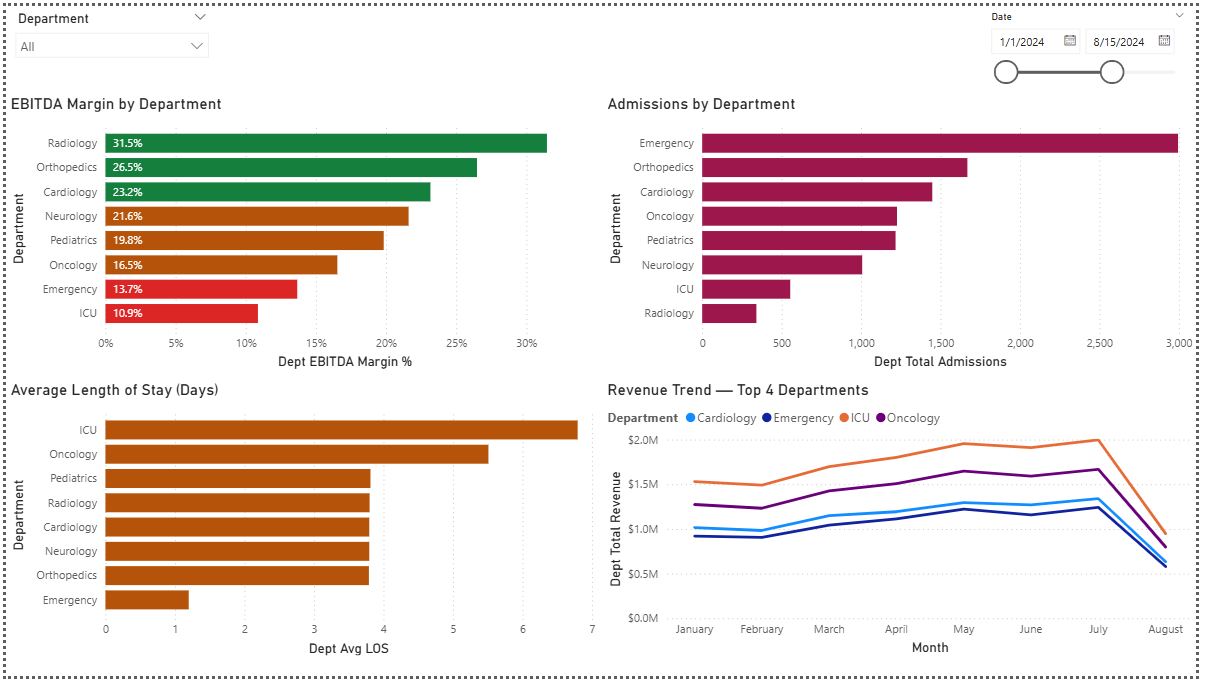

This screenshot's page, from the dashboard's own definition file:
{"tool":"powerbi","page":{"name":"Department Performance","canvas":[1280,720],"ordinal":1},"visuals":[{"type":"slicer","fields":{"Values":["Daily_KPIs.Date"]},"box":[1047.4,0,232.8,95.1],"z":0},{"type":"slicer","fields":{"Values":["Department_Daily.Department"]},"box":[0,0,227.8,95.1],"z":1000},{"type":"clusteredBarChart","title":"EBITDA Margin by Department","fields":{"Category":["Department_Daily.Department"],"Y":["_Measures.Dept EBITDA Margin %"]},"box":[0,94.3,639.3,300.4],"z":2000},{"type":"clusteredBarChart","title":"Admissions by Department","fields":{"Category":["Department_Daily.Department"],"Y":["_Measures.Dept Total Admissions"]},"box":[641.1,94.3,639.3,300.4],"z":3000},{"type":"clusteredBarChart","title":"Average Length of Stay (Days)","fields":{"Category":["Department_Daily.Department"],"Y":["_Measures.Dept Avg LOS"]},"box":[0,404,639,300],"z":4000},{"type":"lineChart","title":"Revenue Trend — Top 4 Departments","fields":{"Category":["Daily_KPIs.Date.Variation.Date Hierarchy.Month"],"Y":["_Measures.Dept Total Revenue"],"Series":["Department_Daily.Department"]},"box":[641,404,639,300],"z":5000}]}

Visuals, with their boxes in screenshot pixels (x1, y1, x2, y2), scaled from the page's 1280x720 canvas onto the 1205x684 screenshot:
slicer - Daily_KPIs.Date: [986,0,1204,90]
slicer - Department_Daily.Department: [0,0,214,90]
"EBITDA Margin by Department" clusteredBarChart: [0,90,602,375]
"Admissions by Department" clusteredBarChart: [604,90,1204,375]
"Average Length of Stay (Days)" clusteredBarChart: [0,384,602,669]
"Revenue Trend — Top 4 Departments" lineChart: [603,384,1204,669]
